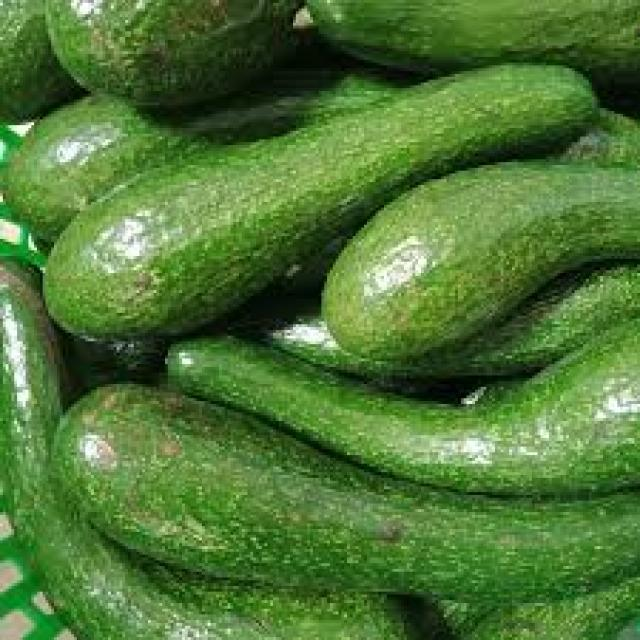Bo: (16, 52, 606, 362), (28, 376, 635, 606), (148, 308, 636, 491), (302, 150, 633, 373)
